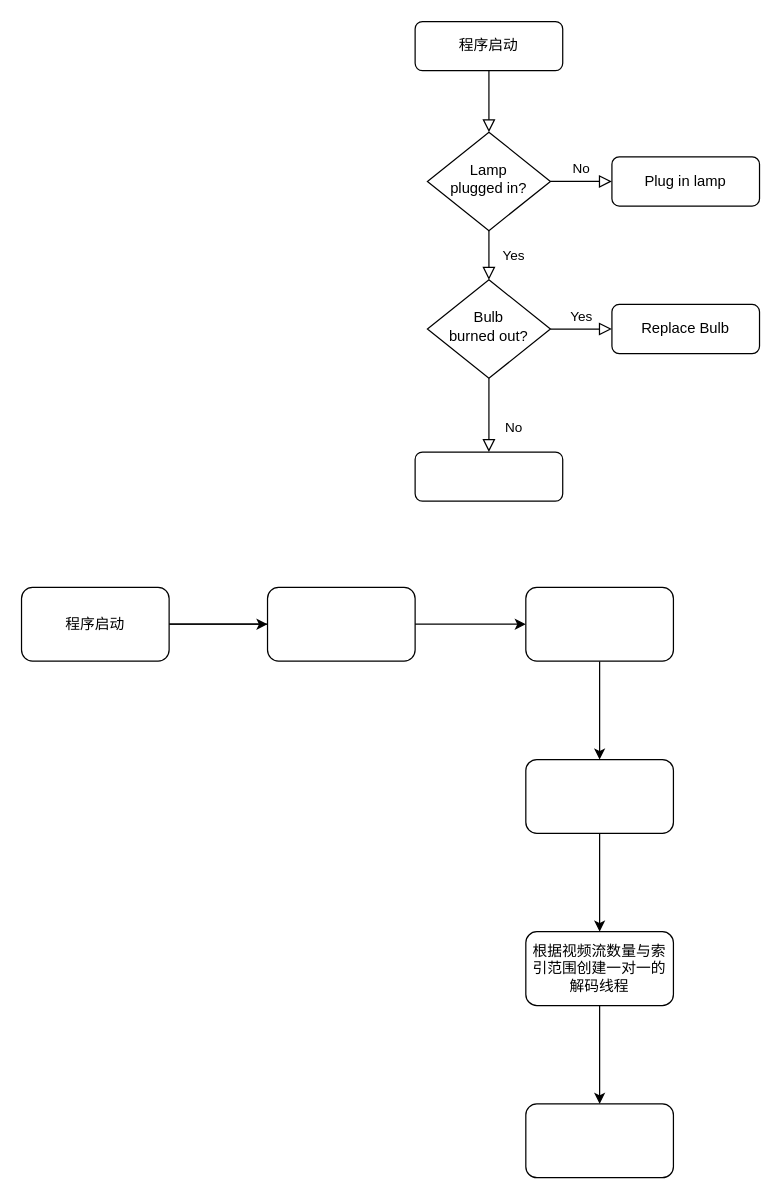
This 781x1199 diagram has some shape labels left out. Each missing label, with the box of its shape:
Repair Lamp: (414, 451, 563, 501)
创建视频流前处理进程: (525, 758, 673, 833)
初始化共享内存空间: (266, 586, 415, 661)
根据视频流数量切分共享内存空间为循环数组形式，记录索引: (525, 586, 673, 661)
